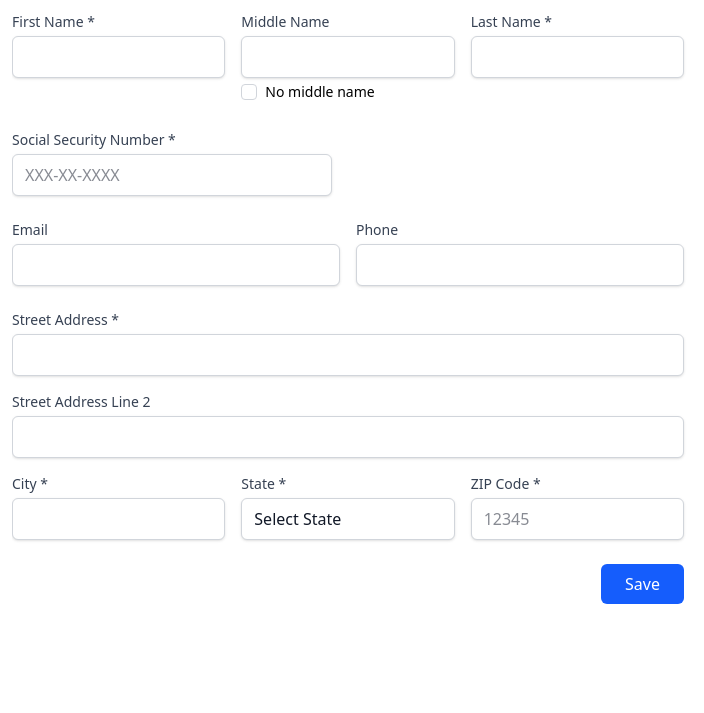
Test case: PiiForm › validates ZIP code format
The width and height of the screenshot is (704, 713).
Note: Enter invalid ZIP (too short)
Type "1234" into the field labelled "ZIP Code *" at (577, 519), box [471, 498, 684, 540]
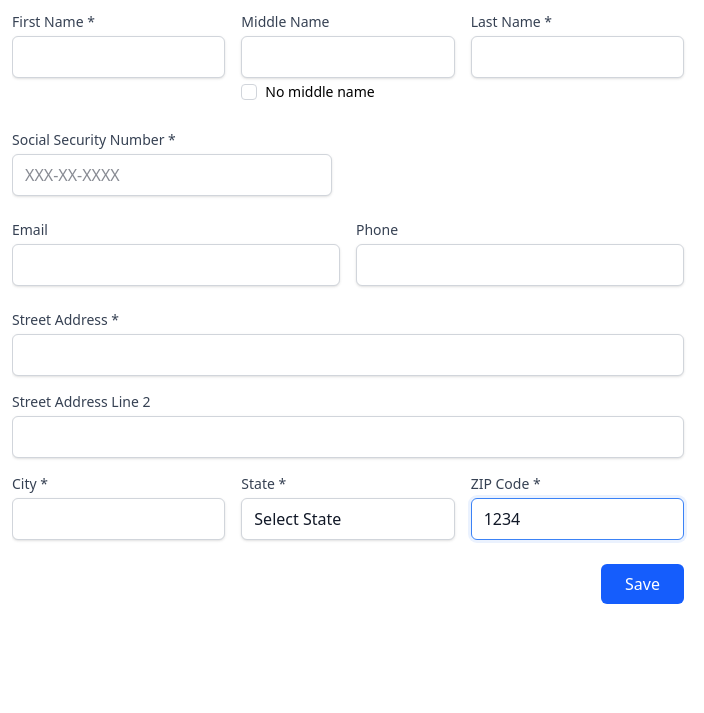
Click the button "Save" at (643, 584), box [601, 564, 684, 604]
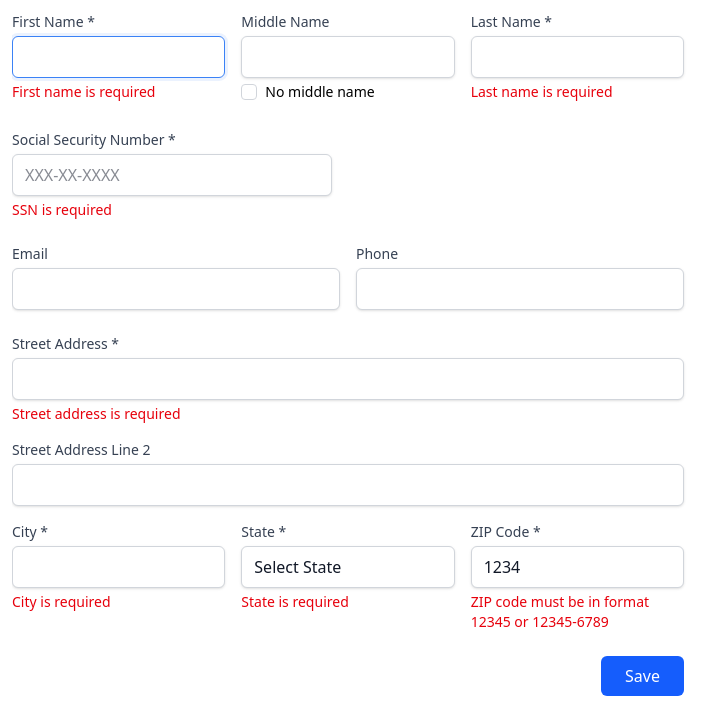
Expected: the text "ZIP code must be in format 12345 or 12345-6789" is shown, [471, 592, 649, 631]
